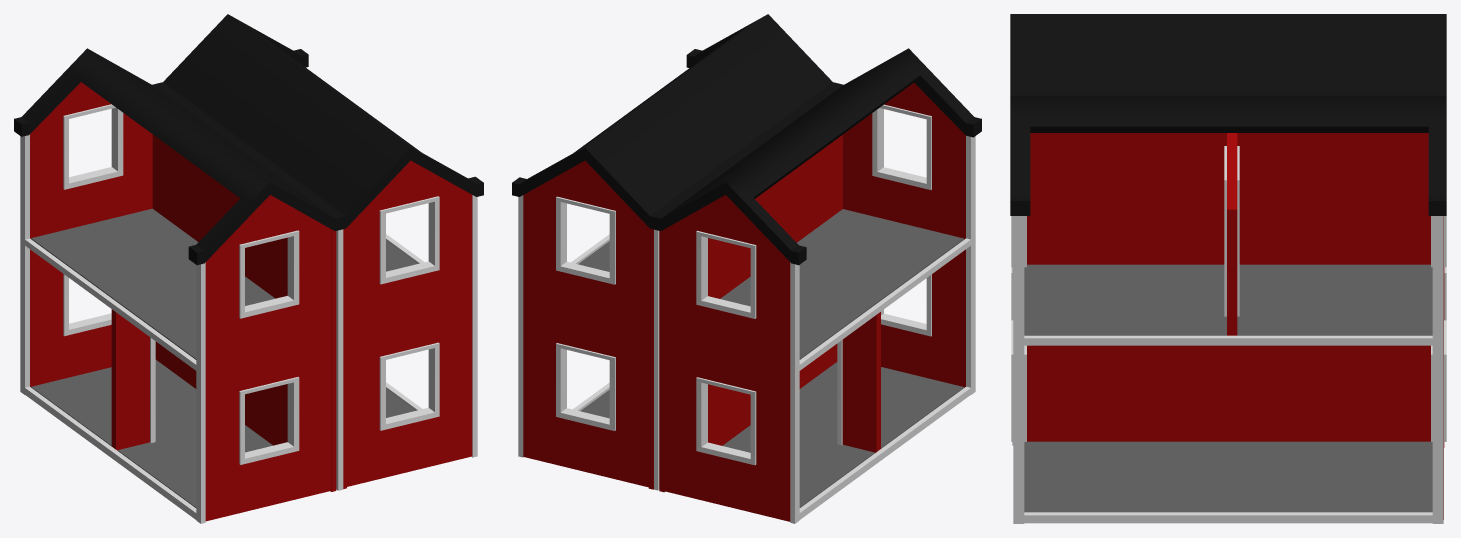
File: DollHouse.fbx
3 views of the same model, side by side, from view 1: azimuth 30°, elevation 25°; view 2: azimuth 150°, elevation 25°; view 3: azimuth 270°, elevation 25° (orthographic). The views are drawn at different scales.
Parts seen in each view (by area): view 1: DollHouse; view 2: DollHouse; view 3: DollHouse.
Boxes of the visible parts, x1,y1,x2,y2 form: DollHouse: (14,14,483,523); DollHouse: (512,14,981,523); DollHouse: (1010,14,1446,523).
Size of the model in its own units: 12.11 by 13.16 by 13.38.
